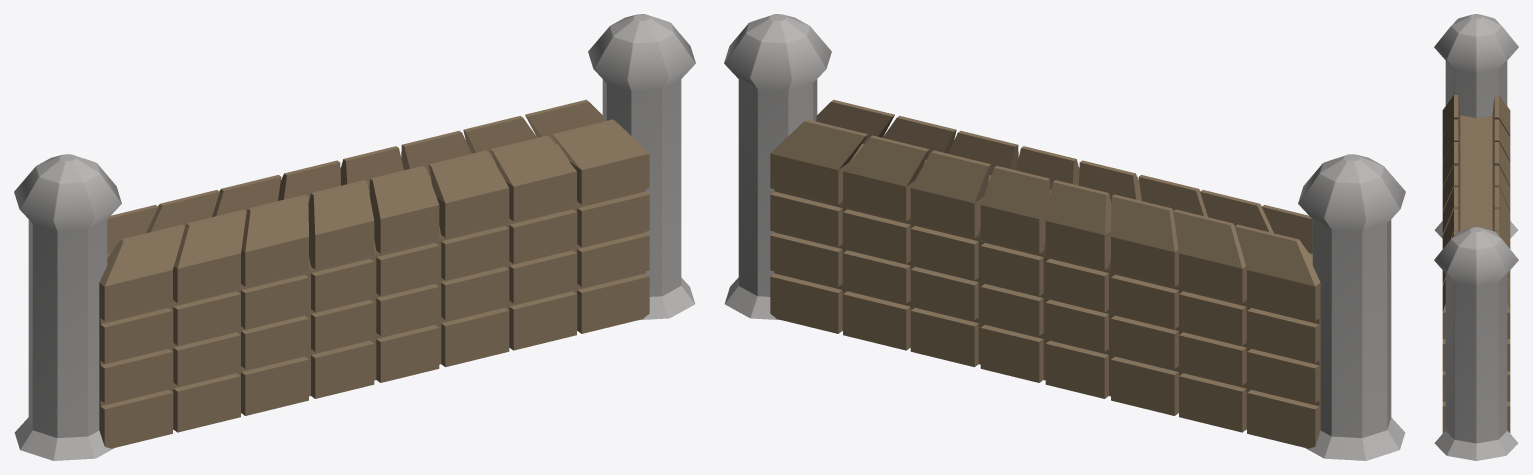
Rendered from Wall.fbx.
3 renders of one model, left to right at view 1: azimuth 30°, elevation 25°; view 2: azimuth 150°, elevation 25°; view 3: azimuth 270°, elevation 25°, orthographic. The views are drawn at different scales.
Parts seen in each view (by area): view 1: pCube1, polySurface1; view 2: pCube1, polySurface1; view 3: polySurface1, pCube1.
Part boxes in pixels (bbox=[...]): pCube1: bbox=[99, 99, 649, 448]; polySurface1: bbox=[14, 14, 695, 460]; pCube1: bbox=[770, 99, 1320, 448]; polySurface1: bbox=[724, 14, 1405, 460]; polySurface1: bbox=[1434, 14, 1518, 460]; pCube1: bbox=[1442, 95, 1510, 433].
Bounding box in the file's own units: 4.6 × 1.84 × 0.6617.
